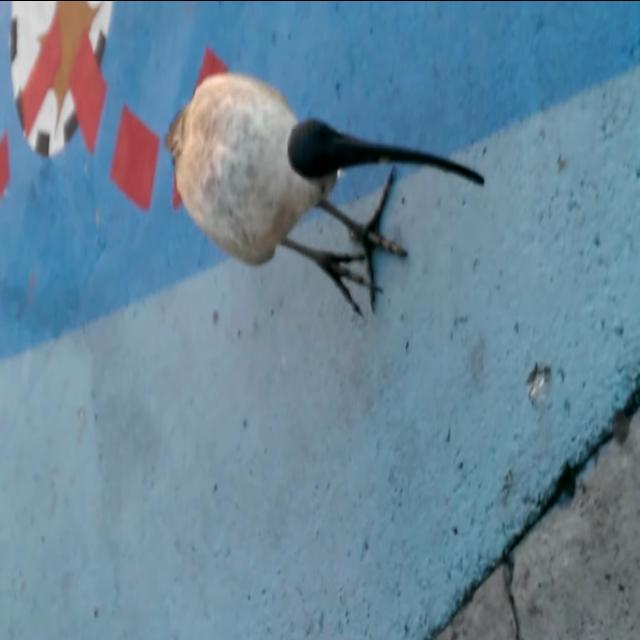Birds-Ibis: (164, 60, 490, 324)
